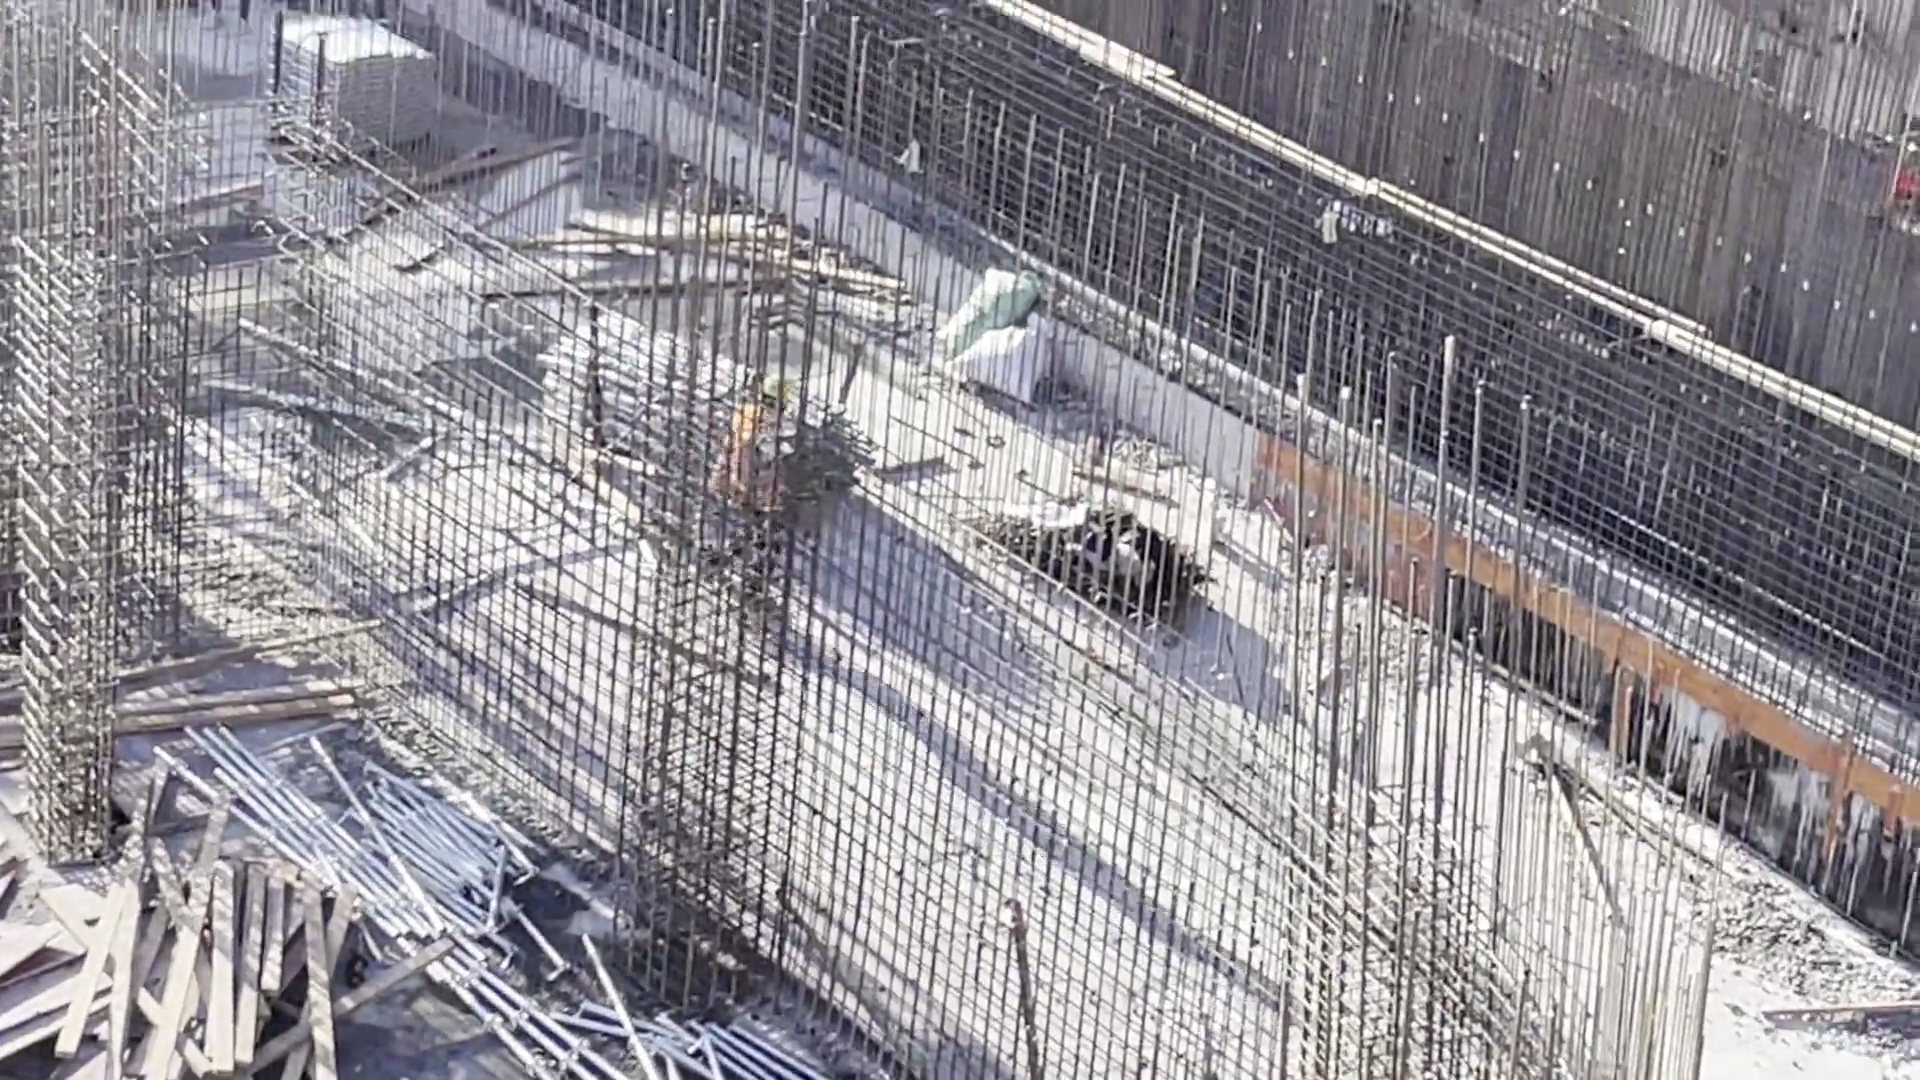helmet: (764, 369, 793, 411)
person: (714, 375, 801, 615)
scaffold: (247, 1, 453, 161)
vest: (709, 401, 799, 505)
wood: (73, 841, 338, 1080)
